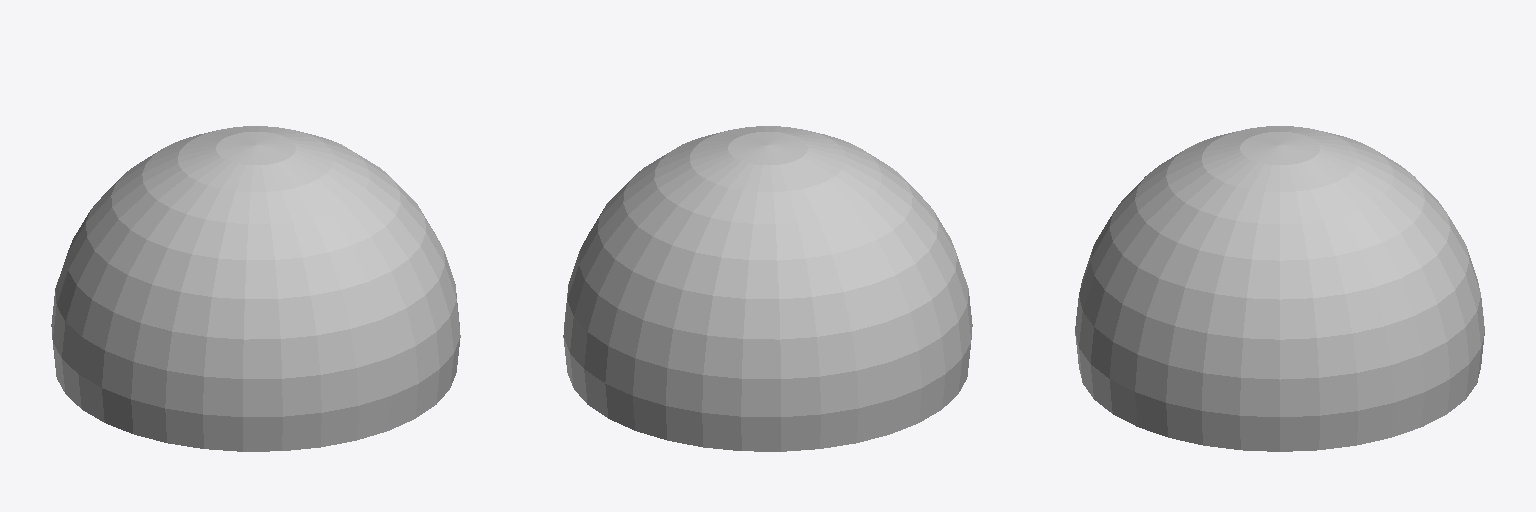
Rendered from skydome.obj.
The picture shows the model from 3 angles: view 1: azimuth 30°, elevation 25°; view 2: azimuth 150°, elevation 25°; view 3: azimuth 270°, elevation 25°; orthographic projection.
Parts seen in each view (by area): view 1: Sphere; view 2: Sphere; view 3: Sphere.
Part boxes in pixels (left/top/right/bottom): Sphere: left=51, top=126, right=460, bottom=451; Sphere: left=563, top=126, right=972, bottom=451; Sphere: left=1075, top=126, right=1484, bottom=451.
Size of the model in its own units: 16.78 by 10.03 by 16.78.